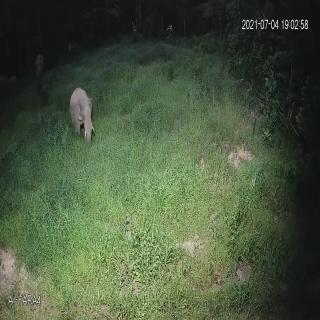Elephant: (66, 80, 98, 151)
